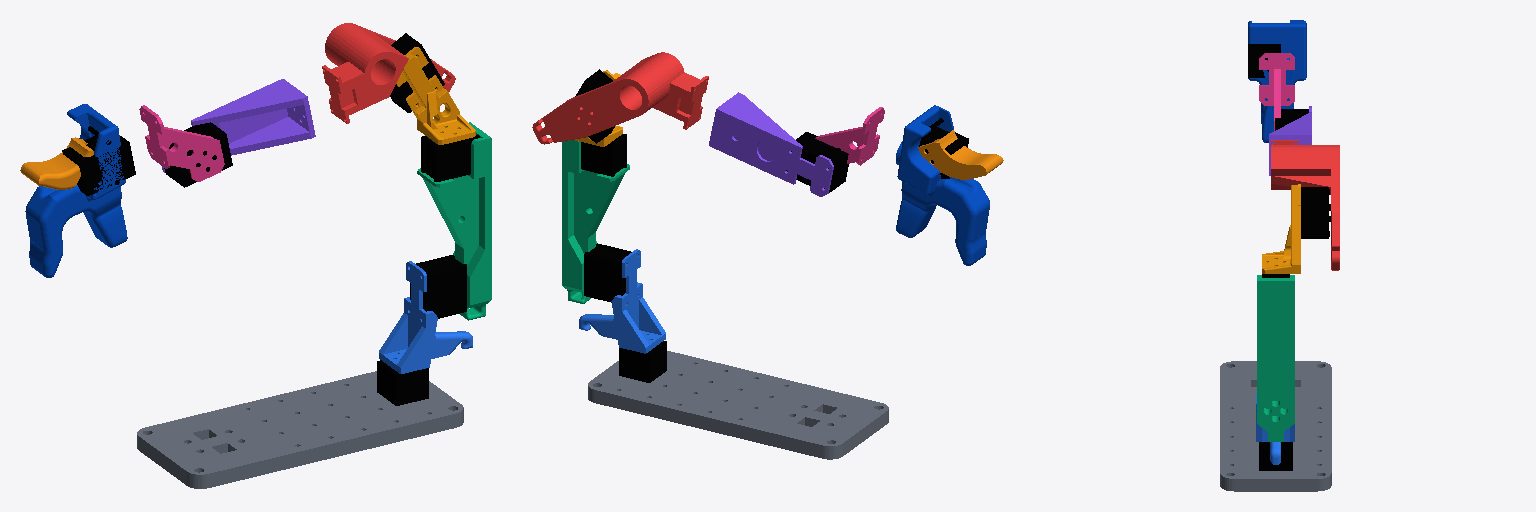
robot.urdf — gello_real_dynamic:
<?xml version='1.0' encoding='utf-8'?>
<robot name="gello_real_dynamic">
  <link name="base_link">
    <inertial>
      <origin xyz="0.001663604 0.000000181 0.005015813" rpy="0 0 0" />
      <mass value="0.187622278" />
      <inertia ixx="1.022256730250e-04" ixy="-3.224593012555e-09" ixz="2.185141455352e-07" iyy="6.092075909536e-04" iyz="2.318137882666e-13" izz="7.083040155658e-04" />
    </inertial>
    <visual>
      <origin xyz="0.000000000 0.000000000 0.000000000" rpy="0.000000000 -0.000000000 0.000000000" />
      <geometry>
        <mesh filename="real_urdf_meshes/base.stl" />
      </geometry>
      <material name="base_mat">
        <color rgba="0.4500 0.4800 0.5300 1" />
      </material>
    </visual>
    <collision>
      <origin xyz="0.000000000 0.000000000 0.000000000" rpy="0.000000000 -0.000000000 0.000000000" />
      <geometry>
        <mesh filename="real_urdf_meshes/base.stl" />
      </geometry>
    </collision>
  </link>
  <link name="link_1">
    <inertial>
      <origin xyz="0.000000020 0.012162976 0.014776584" rpy="0 0 0" />
      <mass value="0.016490870" />
      <inertia ixx="5.905803901998e-06" ixy="-8.732868513260e-12" ixz="3.480035729951e-12" iyy="4.430678602502e-06" iyz="1.162624337126e-07" izz="3.441967475605e-06" />
    </inertial>
    <visual>
      <origin xyz="0.000000000 0.019900000 0.000000000" rpy="0.000000000 -0.000000000 0.000000000" />
      <geometry>
        <mesh filename="real_urdf_meshes/L1.stl" />
      </geometry>
      <material name="L1_mat">
        <color rgba="0.2000 0.5000 0.9600 1" />
      </material>
    </visual>
    <collision>
      <origin xyz="0.000000000 0.019900000 0.000000000" rpy="0.000000000 -0.000000000 0.000000000" />
      <geometry>
        <mesh filename="real_urdf_meshes/L1.stl" />
      </geometry>
    </collision>
  </link>
  <link name="link_2">
    <inertial>
      <origin xyz="0.000000000 -0.041365124 0.005034305" rpy="0 0 0" />
      <mass value="0.048581152" />
      <inertia ixx="5.642893512980e-05" ixy="-4.745043505144e-13" ixz="6.370341569003e-14" iyy="5.828815508983e-06" iyz="-2.981748645101e-06" izz="5.500988489444e-05" />
    </inertial>
    <visual>
      <origin xyz="-0.000000000 0.024900000 -0.004850000" rpy="1.570796327 -0.000000000 0.000000000" />
      <geometry>
        <mesh filename="real_urdf_meshes/L2.stl" />
      </geometry>
      <material name="L2_mat">
        <color rgba="0.0600 0.7200 0.5100 1" />
      </material>
    </visual>
    <collision>
      <origin xyz="-0.000000000 0.024900000 -0.004850000" rpy="1.570796327 -0.000000000 0.000000000" />
      <geometry>
        <mesh filename="real_urdf_meshes/L2.stl" />
      </geometry>
    </collision>
  </link>
  <link name="link_3">
    <inertial>
      <origin xyz="0.011573327 0.006603619 0.019157769" rpy="0 0 0" />
      <mass value="0.011792556" />
      <inertia ixx="4.492106700652e-06" ixy="-2.652753357010e-07" ixz="-6.777796106482e-07" iyy="3.716312388219e-06" iyz="-1.443029912677e-06" izz="1.880287908545e-06" />
    </inertial>
    <visual>
      <origin xyz="0.004200000 0.010201720 0.000600000" rpy="0.000000000 -0.000000000 0.000000000" />
      <geometry>
        <mesh filename="real_urdf_meshes/L3.stl" />
      </geometry>
      <material name="L3_mat">
        <color rgba="0.9600 0.6200 0.0700 1" />
      </material>
    </visual>
    <collision>
      <origin xyz="0.004200000 0.010201720 0.000600000" rpy="0.000000000 -0.000000000 0.000000000" />
      <geometry>
        <mesh filename="real_urdf_meshes/L3.stl" />
      </geometry>
    </collision>
  </link>
  <link name="link_4">
    <inertial>
      <origin xyz="-0.029680429 -0.012856813 -0.015882701" rpy="0 0 0" />
      <mass value="0.053851001" />
      <inertia ixx="2.409361308212e-05" ixy="-8.689023956383e-06" ixz="-1.374948484004e-05" iyy="4.358015351696e-05" iyz="-3.640729446476e-06" izz="3.850842295590e-05" />
    </inertial>
    <visual>
      <origin xyz="-0.068517134 -0.027053739 -0.017800000" rpy="-2.591813939 -1.570796327 0.000000000" />
      <geometry>
        <mesh filename="real_urdf_meshes/L4.stl" />
      </geometry>
      <material name="L4_mat">
        <color rgba="0.9400 0.2700 0.2700 1" />
      </material>
    </visual>
    <collision>
      <origin xyz="-0.068517134 -0.027053739 -0.017800000" rpy="-2.591813939 -1.570796327 0.000000000" />
      <geometry>
        <mesh filename="real_urdf_meshes/L4.stl" />
      </geometry>
    </collision>
  </link>
  <link name="link_5">
    <inertial>
      <origin xyz="0.012394041 0.000000000 0.027190033" rpy="0 0 0" />
      <mass value="0.024347669" />
      <inertia ixx="1.607225906876e-05" ixy="-4.934890928882e-17" ixz="-2.357135187970e-06" iyy="1.496507274419e-05" iyz="-4.238622913449e-16" izz="4.231582991075e-06" />
    </inertial>
    <visual>
      <origin xyz="0.005500000 0.000000000 -0.001150000" rpy="0.000000000 -0.000000000 0.000000000" />
      <geometry>
        <mesh filename="real_urdf_meshes/L5.stl" />
      </geometry>
      <material name="L5_mat">
        <color rgba="0.5500 0.3600 0.9600 1" />
      </material>
    </visual>
    <collision>
      <origin xyz="0.005500000 0.000000000 -0.001150000" rpy="0.000000000 -0.000000000 0.000000000" />
      <geometry>
        <mesh filename="real_urdf_meshes/L5.stl" />
      </geometry>
    </collision>
  </link>
  <link name="link_6">
    <inertial>
      <origin xyz="-0.017779784 0.012685224 -0.001862370" rpy="0 0 0" />
      <mass value="0.008543544" />
      <inertia ixx="1.482388506318e-06" ixy="1.193522926067e-06" ixz="-1.331120010341e-08" iyy="2.156155754341e-06" iyz="9.497053842612e-09" izz="3.409272371006e-06" />
    </inertial>
    <visual>
      <origin xyz="-0.007063963 -0.013682943 -0.001950000" rpy="-1.370091106 -1.570796327 0.000000000" />
      <geometry>
        <mesh filename="real_urdf_meshes/L6.stl" />
      </geometry>
      <material name="L6_mat">
        <color rgba="0.9300 0.2800 0.6000 1" />
      </material>
    </visual>
    <collision>
      <origin xyz="-0.007063963 -0.013682943 -0.001950000" rpy="-1.370091106 -1.570796327 0.000000000" />
      <geometry>
        <mesh filename="real_urdf_meshes/L6.stl" />
      </geometry>
    </collision>
  </link>
  <link name="handle_link">
    <inertial>
      <origin xyz="-0.016644666 0.000786493 0.032427148" rpy="0 0 0" />
      <mass value="0.079597932" />
      <inertia ixx="3.967864702960e-05" ixy="-1.132749646919e-06" ixz="1.470202059298e-05" iyy="6.714800192330e-05" iyz="6.320554782319e-07" izz="4.082099955747e-05" />
    </inertial>
    <visual>
      <origin xyz="0.015272000 0.000000000 0.021394000" rpy="1.570796327 0.000000000 -0.000000000" />
      <geometry>
        <mesh filename="real_urdf_meshes/handle.stl" />
      </geometry>
      <material name="handle_mat">
        <color rgba="0.0500 0.3400 0.8000 1" />
      </material>
    </visual>
    <collision>
      <origin xyz="0.015272000 0.000000000 0.021394000" rpy="1.570796327 0.000000000 -0.000000000" />
      <geometry>
        <mesh filename="real_urdf_meshes/handle.stl" />
      </geometry>
    </collision>
  </link>
  <link name="trigger_link">
    <inertial>
      <origin xyz="0.004009471 0.023269254 0.007457246" rpy="0 0 0" />
      <mass value="0.014058350" />
      <inertia ixx="3.383170438325e-06" ixy="-2.819250786456e-07" ixz="-8.788442017132e-08" iyy="9.944394045896e-07" iyz="-4.771071138279e-07" izz="3.143058536534e-06" />
    </inertial>
    <visual>
      <origin xyz="-0.001039000 0.000050000 0.014033333" rpy="-1.570796327 0.000000000 -0.000000000" />
      <geometry>
        <mesh filename="real_urdf_meshes/trigger.stl" />
      </geometry>
      <material name="trigger_mat">
        <color rgba="0.9500 0.5800 0.1000 1" />
      </material>
    </visual>
    <collision>
      <origin xyz="-0.001039000 0.000050000 0.014033333" rpy="-1.570796327 0.000000000 -0.000000000" />
      <geometry>
        <mesh filename="real_urdf_meshes/trigger.stl" />
      </geometry>
    </collision>
  </link>
  <link name="j1_servo_body">
    <inertial>
      <origin xyz="0.000000000 0.000000000 0.000000000" rpy="0 0 0" />
      <mass value="0.018000000" />
      <inertia ixx="1.590000000000e-06" ixy="0.000000000000e+00" ixz="0.000000000000e+00" iyy="1.590000000000e-06" iyz="0.000000000000e+00" izz="1.728000000000e-06" />
    </inertial>
    <visual>
      <origin xyz="0 0 0" rpy="0 0 0" />
      <geometry>
        <mesh filename="real_urdf_meshes/J1_servo_body.stl" />
      </geometry>
      <material name="servo_black">
        <color rgba="0.02 0.02 0.025 1" />
      </material>
    </visual>
    <collision>
      <origin xyz="0 0 0" rpy="0 0 0" />
      <geometry>
        <mesh filename="real_urdf_meshes/J1_servo_body.stl" />
      </geometry>
    </collision>
  </link>
  <link name="j2_servo_body">
    <inertial>
      <origin xyz="0.000000000 0.000000000 0.000000000" rpy="0 0 0" />
      <mass value="0.018000000" />
      <inertia ixx="2.700000000000e-06" ixy="0.000000000000e+00" ixz="0.000000000000e+00" iyy="1.950000000000e-06" iyz="0.000000000000e+00" izz="1.950000000000e-06" />
    </inertial>
    <visual>
      <origin xyz="0 0 0" rpy="0 0 0" />
      <geometry>
        <mesh filename="real_urdf_meshes/J2_servo_body.stl" />
      </geometry>
      <material name="servo_black">
        <color rgba="0.02 0.02 0.025 1" />
      </material>
    </visual>
    <collision>
      <origin xyz="0 0 0" rpy="0 0 0" />
      <geometry>
        <mesh filename="real_urdf_meshes/J2_servo_body.stl" />
      </geometry>
    </collision>
  </link>
  <link name="j3_servo_body">
    <inertial>
      <origin xyz="0.000000000 0.000000000 0.000000000" rpy="0 0 0" />
      <mass value="0.018000000" />
      <inertia ixx="2.214000000000e-06" ixy="0.000000000000e+00" ixz="0.000000000000e+00" iyy="1.464000000000e-06" iyz="0.000000000000e+00" izz="1.950000000000e-06" />
    </inertial>
    <visual>
      <origin xyz="0 0 0" rpy="0 0 0" />
      <geometry>
        <mesh filename="real_urdf_meshes/J3_servo_body.stl" />
      </geometry>
      <material name="servo_black">
        <color rgba="0.02 0.02 0.025 1" />
      </material>
    </visual>
    <collision>
      <origin xyz="0 0 0" rpy="0 0 0" />
      <geometry>
        <mesh filename="real_urdf_meshes/J3_servo_body.stl" />
      </geometry>
    </collision>
  </link>
  <link name="j4_servo_body">
    <inertial>
      <origin xyz="0.000000000 0.000000000 0.000000000" rpy="0 0 0" />
      <mass value="0.018000000" />
      <inertia ixx="2.544000000000e-06" ixy="0.000000000000e+00" ixz="0.000000000000e+00" iyy="1.950000000000e-06" iyz="0.000000000000e+00" izz="3.294000000000e-06" />
    </inertial>
    <visual>
      <origin xyz="0 0 0" rpy="0 0 0" />
      <geometry>
        <mesh filename="real_urdf_meshes/J4_servo_body.stl" />
      </geometry>
      <material name="servo_black">
        <color rgba="0.02 0.02 0.025 1" />
      </material>
    </visual>
    <collision>
      <origin xyz="0 0 0" rpy="0 0 0" />
      <geometry>
        <mesh filename="real_urdf_meshes/J4_servo_body.stl" />
      </geometry>
    </collision>
  </link>
  <link name="j5_servo_body">
    <inertial>
      <origin xyz="0.000000000 0.000000000 0.000000000" rpy="0 0 0" />
      <mass value="0.018000000" />
      <inertia ixx="2.808000000000e-06" ixy="0.000000000000e+00" ixz="0.000000000000e+00" iyy="1.728000000000e-06" iyz="0.000000000000e+00" izz="2.808000000000e-06" />
    </inertial>
    <visual>
      <origin xyz="0 0 0" rpy="0 0 0" />
      <geometry>
        <mesh filename="real_urdf_meshes/J5_servo_body.stl" />
      </geometry>
      <material name="servo_black">
        <color rgba="0.02 0.02 0.025 1" />
      </material>
    </visual>
    <collision>
      <origin xyz="0 0 0" rpy="0 0 0" />
      <geometry>
        <mesh filename="real_urdf_meshes/J5_servo_body.stl" />
      </geometry>
    </collision>
  </link>
  <link name="j6_servo_body">
    <inertial>
      <origin xyz="0.000000000 0.000000000 0.000000000" rpy="0 0 0" />
      <mass value="0.018000000" />
      <inertia ixx="2.808000000000e-06" ixy="0.000000000000e+00" ixz="0.000000000000e+00" iyy="1.728000000000e-06" iyz="0.000000000000e+00" izz="2.808000000000e-06" />
    </inertial>
    <visual>
      <origin xyz="0 0 0" rpy="0 0 0" />
      <geometry>
        <mesh filename="real_urdf_meshes/J6_servo_body.stl" />
      </geometry>
      <material name="servo_black">
        <color rgba="0.02 0.02 0.025 1" />
      </material>
    </visual>
    <collision>
      <origin xyz="0 0 0" rpy="0 0 0" />
      <geometry>
        <mesh filename="real_urdf_meshes/J6_servo_body.stl" />
      </geometry>
    </collision>
  </link>
  <link name="j7_servo_body">
    <inertial>
      <origin xyz="0.000000000 0.000000000 0.000000000" rpy="0 0 0" />
      <mass value="0.018000000" />
      <inertia ixx="2.808000000000e-06" ixy="0.000000000000e+00" ixz="0.000000000000e+00" iyy="1.728000000000e-06" iyz="0.000000000000e+00" izz="2.808000000000e-06" />
    </inertial>
    <visual>
      <origin xyz="0 0 0" rpy="0 0 0" />
      <geometry>
        <mesh filename="real_urdf_meshes/J7_servo_body.stl" />
      </geometry>
      <material name="servo_black">
        <color rgba="0.02 0.02 0.025 1" />
      </material>
    </visual>
    <collision>
      <origin xyz="0 0 0" rpy="0 0 0" />
      <geometry>
        <mesh filename="real_urdf_meshes/J7_servo_body.stl" />
      </geometry>
    </collision>
  </link>
  <link name="j8_servo_body">
    <inertial>
      <origin xyz="0.000000000 0.000000000 0.000000000" rpy="0 0 0" />
      <mass value="0.018000000" />
      <inertia ixx="2.808000000000e-06" ixy="0.000000000000e+00" ixz="0.000000000000e+00" iyy="1.728000000000e-06" iyz="0.000000000000e+00" izz="2.808000000000e-06" />
    </inertial>
    <visual>
      <origin xyz="0 0 0" rpy="0 0 0" />
      <geometry>
        <mesh filename="real_urdf_meshes/J8_servo_body.stl" />
      </geometry>
      <material name="servo_black">
        <color rgba="0.02 0.02 0.025 1" />
      </material>
    </visual>
    <collision>
      <origin xyz="0 0 0" rpy="0 0 0" />
      <geometry>
        <mesh filename="real_urdf_meshes/J8_servo_body.stl" />
      </geometry>
    </collision>
  </link>
  <joint name="j1_servo_body_fixed" type="fixed">
    <parent link="base_link" />
    <child link="j1_servo_body" />
    <origin xyz="0.075000000 0.000000000 0.020900000" rpy="0.000000000 -0.000000000 0.000000000" />
  </joint>
  <joint name="j2_servo_body_fixed" type="fixed">
    <parent link="link_1" />
    <child link="j2_servo_body" />
    <origin xyz="0.000000000 0.025900000 0.046000000" rpy="0.000000000 -0.000000000 0.000000000" />
  </joint>
  <joint name="j3_servo_body_fixed" type="fixed">
    <parent link="link_2" />
    <child link="j3_servo_body" />
    <origin xyz="0.000000000 -0.091350000 -0.007100000" rpy="1.570796327 -0.000000000 0.000000000" />
  </joint>
  <joint name="j4_servo_body_fixed" type="fixed">
    <parent link="link_3" />
    <child link="j4_servo_body" />
    <origin xyz="0.028400000 0.015002220 0.035730750" rpy="-1.570796327 -0.497418837 -1.570796327" />
  </joint>
  <joint name="j5_servo_body_fixed" type="fixed">
    <parent link="link_4" />
    <child link="j5_servo_body" />
    <origin xyz="-0.077730111 -0.006444533 -0.033854000" rpy="-0.200705221 -1.570796327 0.000000000" />
  </joint>
  <joint name="j6_servo_body_fixed" type="fixed">
    <parent link="link_5" />
    <child link="j6_servo_body" />
    <origin xyz="0.006550000 0.000000000 0.075100000" rpy="1.570796327 0.000000000 -1.570796327" />
  </joint>
  <joint name="j7_servo_body_fixed" type="fixed">
    <parent link="link_6" />
    <child link="j7_servo_body" />
    <origin xyz="-0.048722881 0.021543035 -0.001950000" rpy="0.200705221 -1.570796327 0.000000000" />
  </joint>
  <joint name="j8_servo_body_fixed" type="fixed">
    <parent link="handle_link" />
    <child link="j8_servo_body" />
    <origin xyz="0.005973333 -0.009000000 0.019953000" rpy="1.570796327 0.000000000 -0.000000000" />
  </joint>
  <joint name="joint_1" type="revolute">
    <parent link="base_link" />
    <child link="link_1" />
    <origin xyz="0.075000000 0.000000000 0.032500000" rpy="0.000000000 -0.000000000 -1.570796327" />
    <axis xyz="0 0 1" />
    <limit lower="-3.14159265" upper="3.14159265" effort="0.520000" velocity="10.786135" />
  </joint>
  <joint name="joint_2" type="revolute">
    <parent link="link_1" />
    <child link="link_2" />
    <origin xyz="0.000000000 0.041500000 0.046000000" rpy="-1.570796327 -0.000000000 0.000000000" />
    <axis xyz="0 0 1" />
    <limit lower="-3.14159265" upper="3.14159265" effort="0.520000" velocity="10.786135" />
  </joint>
  <joint name="joint_3" type="revolute">
    <parent link="link_2" />
    <child link="link_3" />
    <origin xyz="0.000000000 -0.103950000 -0.007100000" rpy="-1.570796327 -0.000000000 3.141592654" />
    <axis xyz="0 0 1" />
    <limit lower="-3.14159265" upper="3.14159265" effort="0.520000" velocity="10.786135" />
  </joint>
  <joint name="joint_4" type="revolute">
    <parent link="link_3" />
    <child link="link_4" />
    <origin xyz="0.039000000 0.015002220 0.035730750" rpy="-1.570796327 -0.000000000 -1.570796327" />
    <axis xyz="0 0 1" />
    <limit lower="-3.14159265" upper="3.14159265" effort="0.520000" velocity="10.786135" />
  </joint>
  <joint name="joint_5" type="revolute">
    <parent link="link_4" />
    <child link="link_5" />
    <origin xyz="-0.090077181 -0.003932591 -0.033854000" rpy="-0.200705221 -1.570796327 0.000000000" />
    <axis xyz="0 0 1" />
    <limit lower="-3.14159265" upper="3.14159265" effort="0.520000" velocity="10.786135" />
  </joint>
  <joint name="joint_6" type="revolute">
    <parent link="link_5" />
    <child link="link_6" />
    <origin xyz="-0.006050000 0.000000000 0.075100000" rpy="-1.570796327 1.370091106 1.570796327" />
    <axis xyz="0 0 1" />
    <limit lower="-3.14159265" upper="3.14159265" effort="0.520000" velocity="10.786135" />
  </joint>
  <joint name="joint_7" type="revolute">
    <parent link="link_6" />
    <child link="handle_link" />
    <origin xyz="-0.061069951 0.019031093 -0.001950000" rpy="-1.570796327 -0.000000000 1.771501548" />
    <axis xyz="0 0 1" />
    <limit lower="-3.14159265" upper="3.14159265" effort="0.520000" velocity="10.786135" />
  </joint>
  <joint name="joint_8" type="revolute">
    <parent link="handle_link" />
    <child link="trigger_link" />
    <origin xyz="0.005973333 0.003600000 0.019953000" rpy="1.570796327 0.000000000 -0.000000000" />
    <axis xyz="0 0 1" />
    <limit lower="-3.14159265" upper="3.14159265" effort="0.215000" velocity="40.107666" />
  </joint>
</robot>

--- Facts derived from the render (not from the file) ---
Views: 3 orthographic renders of the robot side by side, from view 1: azimuth 30°, elevation 25°; view 2: azimuth 150°, elevation 25°; view 3: azimuth 270°, elevation 25°.
Robot: gello_real_dynamic — 17 links, 16 joints (8 revolute, 8 fixed); root link base_link; default pose: every joint at zero.
Links seen in each view (by area): view 1: base_link, handle_link, link_2, link_4, link_5, link_1, link_3, link_6, j2_servo_body, j3_servo_body, j8_servo_body, trigger_link (+3 smaller); view 2: base_link, link_4, handle_link, link_5, link_2, link_1, j2_servo_body, trigger_link, link_6, j1_servo_body, j3_servo_body, j6_servo_body (+2 smaller); view 3: base_link, link_2, link_4, handle_link, link_6, link_3, j4_servo_body, link_5, j1_servo_body, j8_servo_body, link_1.
Link boxes in pixels (bbox=[...]): base_link: bbox=[137, 371, 463, 488]; handle_link: bbox=[25, 104, 127, 277]; link_2: bbox=[417, 122, 491, 320]; link_4: bbox=[322, 23, 455, 123]; link_5: bbox=[162, 79, 315, 172]; link_1: bbox=[379, 261, 472, 373]; link_3: bbox=[396, 47, 475, 144]; link_6: bbox=[139, 105, 224, 181]; j2_servo_body: bbox=[410, 255, 466, 318]; j3_servo_body: bbox=[421, 135, 479, 181]; j8_servo_body: bbox=[62, 126, 135, 195]; trigger_link: bbox=[20, 137, 93, 189]; base_link: bbox=[588, 351, 888, 459]; link_4: bbox=[532, 52, 708, 144]; handle_link: bbox=[896, 105, 989, 265]; link_5: bbox=[709, 92, 833, 196]; link_2: bbox=[562, 140, 629, 303]; link_1: bbox=[579, 249, 665, 353]; j2_servo_body: bbox=[584, 243, 631, 302]; trigger_link: bbox=[918, 130, 1003, 179]; link_6: bbox=[815, 107, 884, 165]; j1_servo_body: bbox=[619, 341, 666, 382]; j3_servo_body: bbox=[581, 134, 626, 176]; j6_servo_body: bbox=[786, 132, 848, 192]; base_link: bbox=[1220, 361, 1331, 491]; link_2: bbox=[1257, 275, 1294, 441]; link_4: bbox=[1271, 140, 1339, 270]; handle_link: bbox=[1248, 20, 1306, 142]; link_6: bbox=[1259, 53, 1294, 130]; link_3: bbox=[1262, 184, 1300, 273]; j4_servo_body: bbox=[1301, 187, 1330, 238]; link_5: bbox=[1269, 106, 1311, 175]; j1_servo_body: bbox=[1259, 442, 1292, 470]; j8_servo_body: bbox=[1248, 44, 1280, 77]; link_1: bbox=[1256, 394, 1294, 464].
Bounding box of the posed robot: 0.3365 × 0.086 × 0.2562 m (x, y, z).
Meshes: 17 distinct files referenced, 15 mesh visuals loaded (15 binary STL); not drawn: 2 (reference not matched to a file when rendering).
